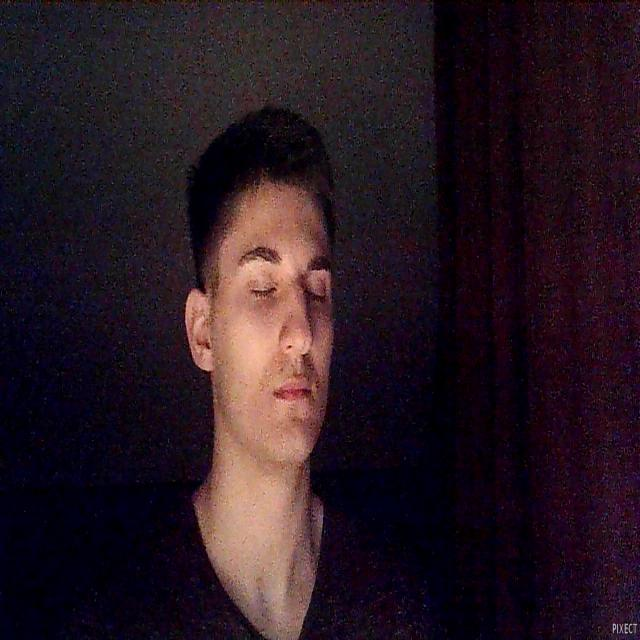Eyeclosed: (248, 276, 276, 306), (305, 279, 326, 315)
